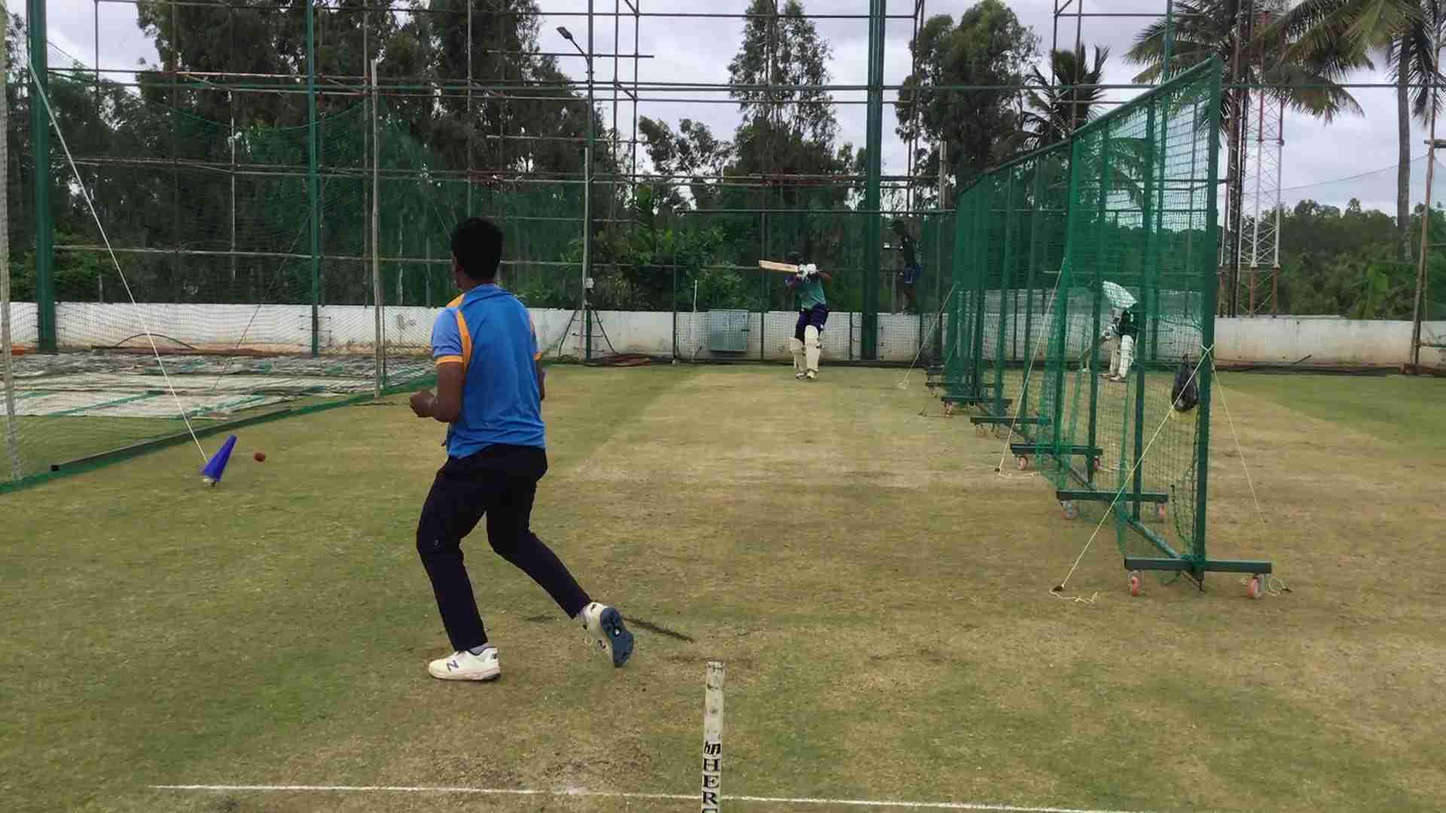batsman: (783, 251, 830, 387)
